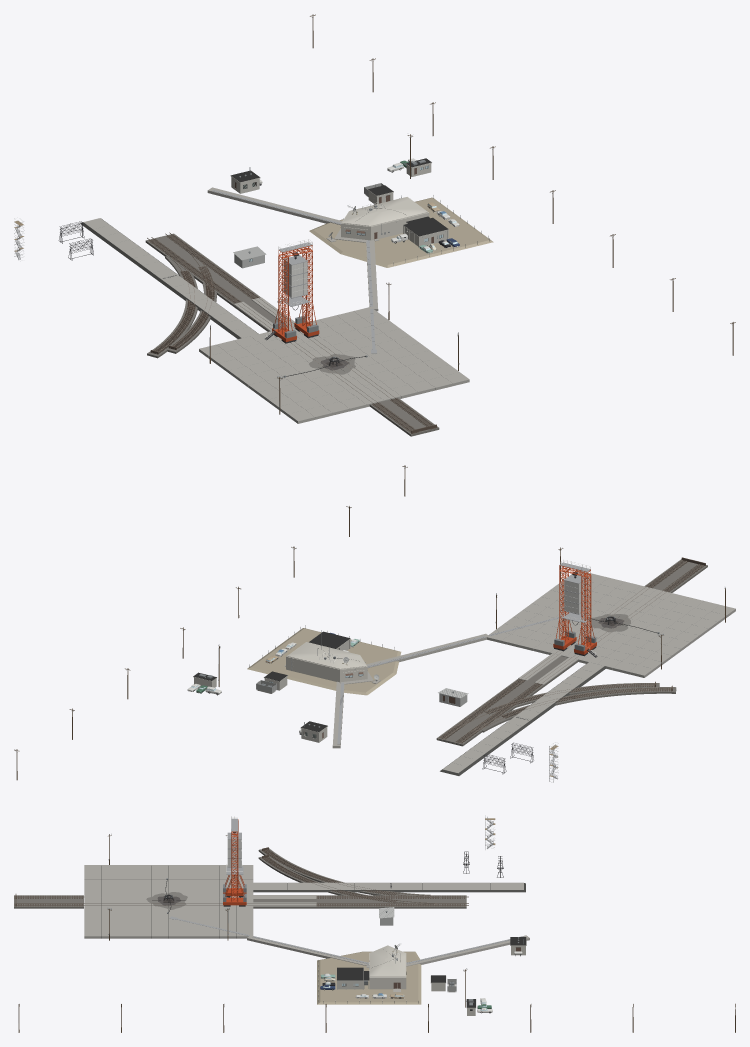
The model's file is surroundings.glb.
The picture shows the model from 3 angles, top to bottom: view 1: azimuth 30°, elevation 25°; view 2: azimuth 150°, elevation 25°; view 3: azimuth 270°, elevation 25°; orthographic projection. The views are drawn at different scales.
Parts seen in each view (by area): view 1: Pad6_Concrete, Track_Ballast, Blockhouse_Shell, Track_Tie, Road_Concrete, Pad6Gantry_Red, Track_Rail, Blockhouse_BunkerRoof, CableTrenches_ConcreteTrench, Track_BallastSpur, Blockhouse_Bunker, Road_Joint (+2 smaller); view 2: Pad6_Concrete, Track_Ballast, Blockhouse_Shell, Track_Tie, Road_Concrete, Track_Rail, Pad6Gantry_Red, Track_BallastSpur, Blockhouse_BunkerRoof, Blockhouse_Bunker, CableTrenches_ConcreteTrench, Track_Concrete (+2 smaller); view 3: Pad6_Concrete, Track_Ballast, Blockhouse_Shell, Road_Concrete, Track_Rail, Track_Tie, Track_BallastSpur, CableTrenches_ConcreteTrench, Blockhouse_BunkerRoof, Pad6Gantry_Red, Road_Joint, Track_Concrete (+6 smaller).
Part boxes in pixels (left/top/right/bottom): Pad6_Concrete: left=199, top=307, right=469, bottom=423; Track_Ballast: left=145, top=233, right=439, bottom=436; Blockhouse_Shell: left=309, top=197, right=493, bottom=267; Track_Tie: left=148, top=234, right=437, bottom=433; Road_Concrete: left=83, top=218, right=258, bottom=337; Pad6Gantry_Red: left=272, top=245, right=319, bottom=341; Track_Rail: left=147, top=232, right=432, bottom=430; Blockhouse_BunkerRoof: left=342, top=197, right=427, bottom=225; CableTrenches_ConcreteTrench: left=207, top=187, right=378, bottom=311; Track_BallastSpur: left=147, top=256, right=216, bottom=358; Blockhouse_Bunker: left=341, top=197, right=429, bottom=240; Road_Joint: left=80, top=218, right=258, bottom=338; Pad6_Concrete: left=486, top=570, right=735, bottom=677; Track_Ballast: left=436, top=559, right=707, bottom=746; Blockhouse_Shell: left=247, top=628, right=401, bottom=695; Track_Tie: left=439, top=557, right=705, bottom=743; Road_Concrete: left=443, top=662, right=604, bottom=773; Track_Rail: left=438, top=560, right=703, bottom=744; Pad6Gantry_Red: left=553, top=565, right=596, bottom=654; Track_BallastSpur: left=482, top=683, right=676, bottom=732; Blockhouse_BunkerRoof: left=288, top=642, right=366, bottom=668; Blockhouse_Bunker: left=286, top=642, right=367, bottom=682; CableTrenches_ConcreteTrench: left=332, top=633, right=487, bottom=748; Track_Concrete: left=518, top=653, right=577, bottom=684; Pad6_Concrete: left=84, top=865, right=253, bottom=938; Track_Ballast: left=14, top=895, right=466, bottom=908; Blockhouse_Shell: left=317, top=951, right=421, bottom=1004; Road_Concrete: left=253, top=882, right=523, bottom=889; Track_Rail: left=16, top=849, right=468, bottom=905; Track_Tie: left=14, top=847, right=464, bottom=906; Track_BallastSpur: left=258, top=848, right=430, bottom=895; CableTrenches_ConcreteTrench: left=247, top=935, right=529, bottom=966; Blockhouse_BunkerRoof: left=370, top=945, right=405, bottom=976; Pad6Gantry_Red: left=223, top=819, right=246, bottom=905; Road_Joint: left=253, top=883, right=525, bottom=892; Track_Concrete: left=253, top=895, right=316, bottom=906.
Bounding box in the file's own units: 157 × 34.28 × 260.
